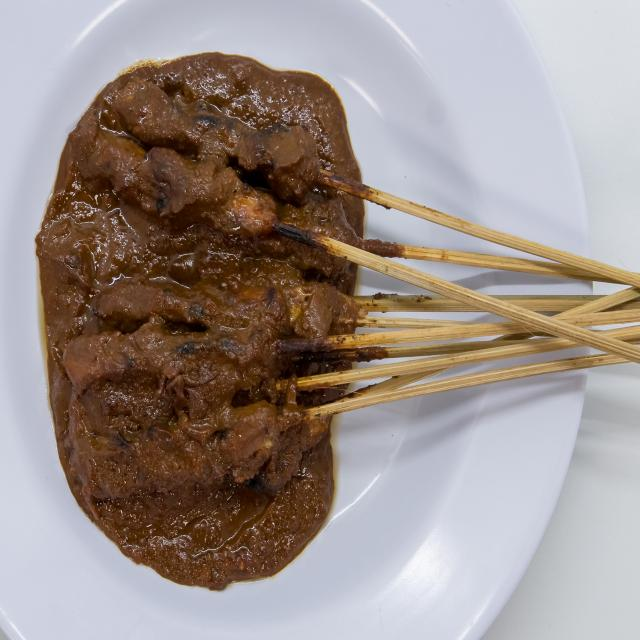Sate-Ayam: (34, 38, 410, 540)
